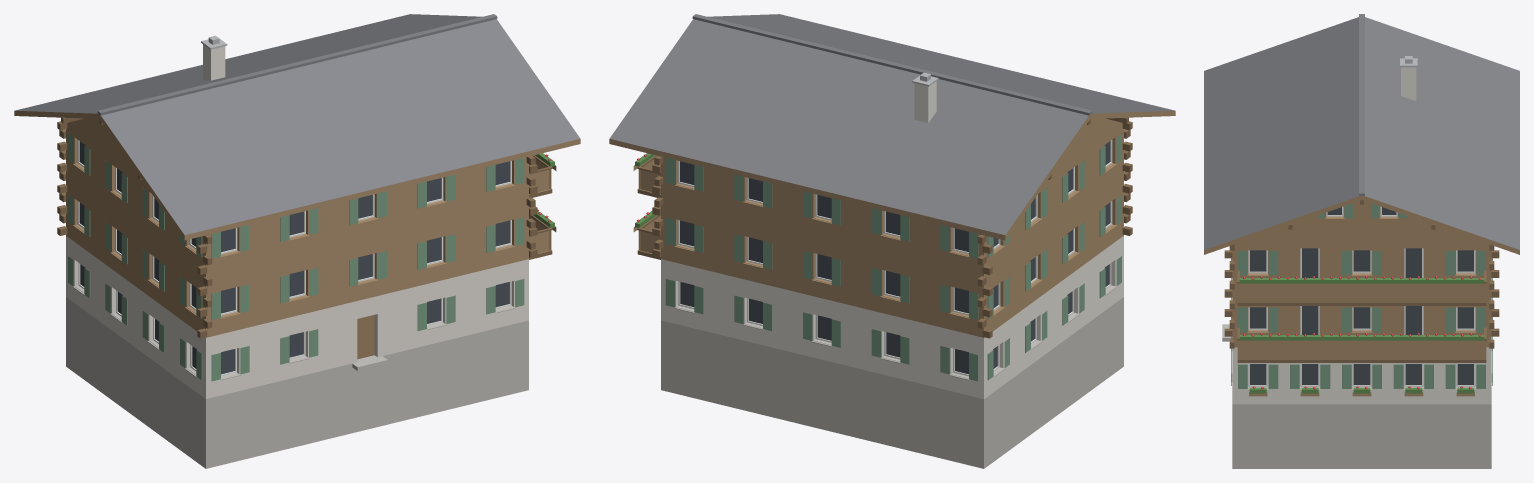
File: chalet_3_l.glb
The picture shows the model from 3 angles, left to right: view 1: azimuth 30°, elevation 25°; view 2: azimuth 150°, elevation 25°; view 3: azimuth 270°, elevation 25°; orthographic projection. The views are drawn at different scales.
Visible parts, largest first — view 1: chalet_3_l; view 2: chalet_3_l; view 3: chalet_3_l.
Part boxes in pixels (<box>): chalet_3_l: <box>14,14,580,468</box>; chalet_3_l: <box>609,14,1175,468</box>; chalet_3_l: <box>1204,14,1519,468</box>.
Bounding box in the file's own units: 19.64 × 15.9 × 14.6.
